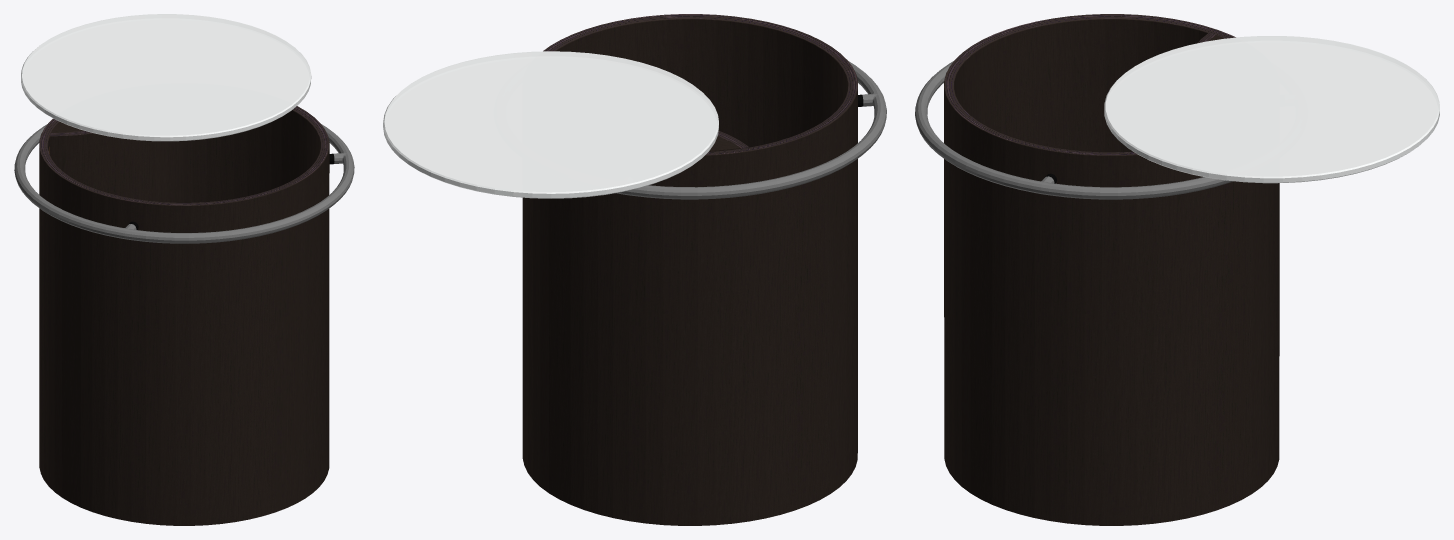
The model's file is ligne_roset_comodino_bar_obj.obj.
The picture shows the model from 3 angles, left to right: view 1: azimuth 30°, elevation 25°; view 2: azimuth 150°, elevation 25°; view 3: azimuth 270°, elevation 25°; orthographic projection. The views are drawn at different scales.
Visible parts, largest first — view 1: ligne_roset_comodino_bar; view 2: ligne_roset_comodino_bar; view 3: ligne_roset_comodino_bar.
Part boxes in pixels (bbox=[...]): ligne_roset_comodino_bar: bbox=[14, 14, 354, 525]; ligne_roset_comodino_bar: bbox=[383, 14, 886, 525]; ligne_roset_comodino_bar: bbox=[915, 14, 1439, 525].
Bounding box in the file's own units: 59.21 × 57.06 × 71.87.
Materials: 7 (2 with a texture image).
